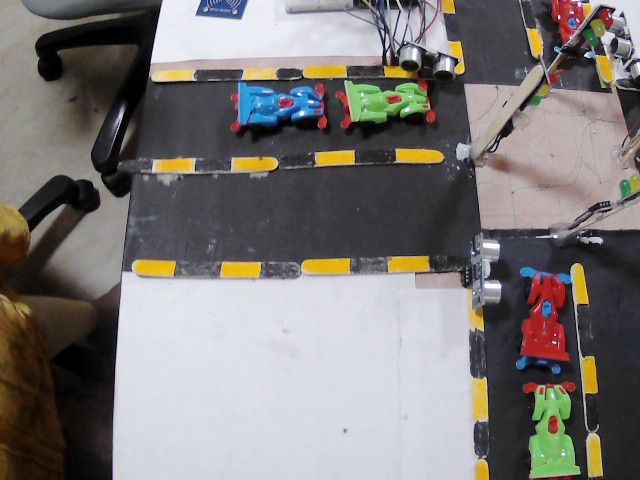black_strip: (354, 144, 396, 167), (470, 330, 487, 381), (574, 306, 592, 353), (174, 258, 218, 276), (263, 260, 300, 281), (196, 66, 246, 80), (119, 156, 155, 174), (350, 255, 385, 273), (278, 150, 312, 168), (517, 0, 536, 32), (432, 252, 470, 267), (192, 156, 230, 171), (544, 53, 561, 86), (472, 422, 488, 456), (442, 9, 458, 42), (586, 395, 601, 428), (351, 63, 382, 78), (615, 74, 640, 90), (591, 35, 604, 57), (276, 68, 298, 78)
car: (520, 381, 581, 480), (516, 269, 571, 369), (226, 81, 325, 126), (338, 81, 434, 126), (540, 0, 582, 45)
mixed_lane: (120, 147, 448, 179), (130, 252, 471, 282), (570, 264, 602, 474), (150, 66, 420, 90), (464, 291, 491, 474), (522, 0, 557, 84), (436, 0, 466, 72), (590, 38, 608, 81), (580, 2, 592, 24)
traffic_light: (496, 68, 557, 141), (572, 8, 616, 62), (597, 171, 640, 221)
uno_breadboard: (467, 232, 505, 306), (281, 0, 421, 17), (406, 42, 454, 81), (608, 11, 638, 69), (194, 0, 248, 21)
yellow_strip: (395, 147, 450, 165), (135, 256, 177, 279), (301, 255, 351, 273), (233, 153, 278, 173), (311, 147, 354, 167), (303, 63, 350, 80), (385, 252, 429, 270), (470, 378, 488, 420), (468, 293, 490, 327), (572, 264, 591, 303), (154, 69, 195, 86), (222, 259, 262, 276), (584, 432, 600, 474), (444, 41, 464, 72), (152, 159, 193, 174), (382, 63, 417, 80), (581, 357, 598, 390), (524, 30, 544, 57), (595, 54, 612, 84), (243, 68, 276, 78), (474, 461, 488, 480), (578, 3, 591, 18), (440, 0, 454, 12)
